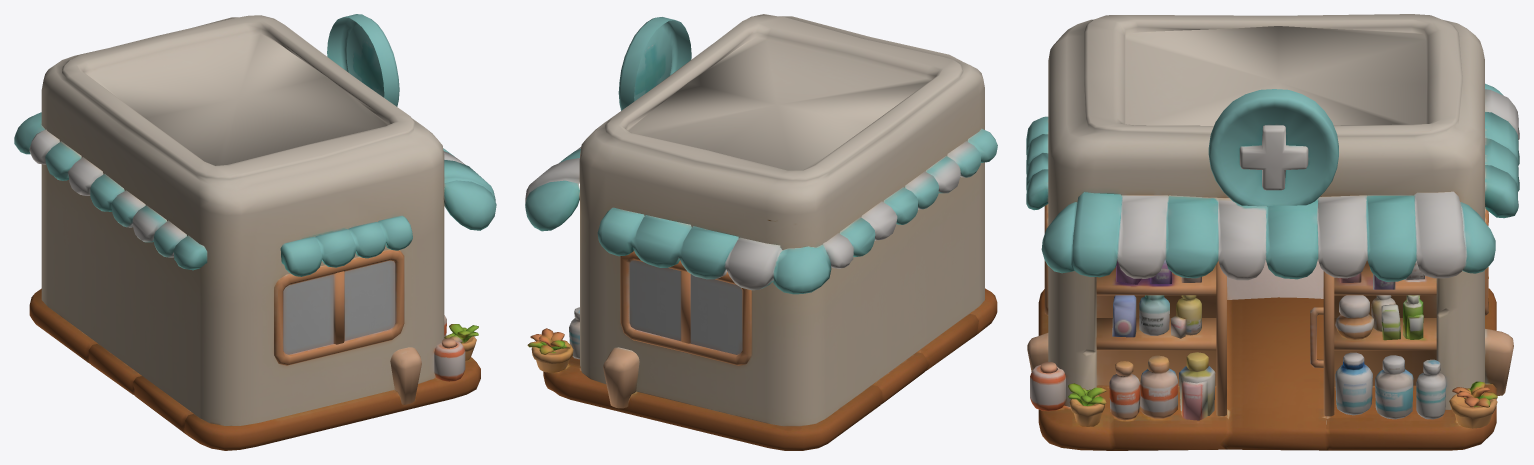
3 renders of one model, left to right at view 1: azimuth 30°, elevation 25°; view 2: azimuth 150°, elevation 25°; view 3: azimuth 270°, elevation 25°, orthographic. The views are drawn at different scales.
Parts seen in each view (by area): view 1: tripo_node_1e2b68d6; view 2: tripo_node_1e2b68d6; view 3: tripo_node_1e2b68d6.
Boxes of the visible parts, left/top/right/bottom form: tripo_node_1e2b68d6: left=14, top=14, right=496, bottom=450; tripo_node_1e2b68d6: left=525, top=14, right=997, bottom=450; tripo_node_1e2b68d6: left=1026, top=14, right=1519, bottom=450.
Bounding box in the file's own units: 0.834 × 0.7676 × 0.998.
Materials: 1 (1 with a texture image).
